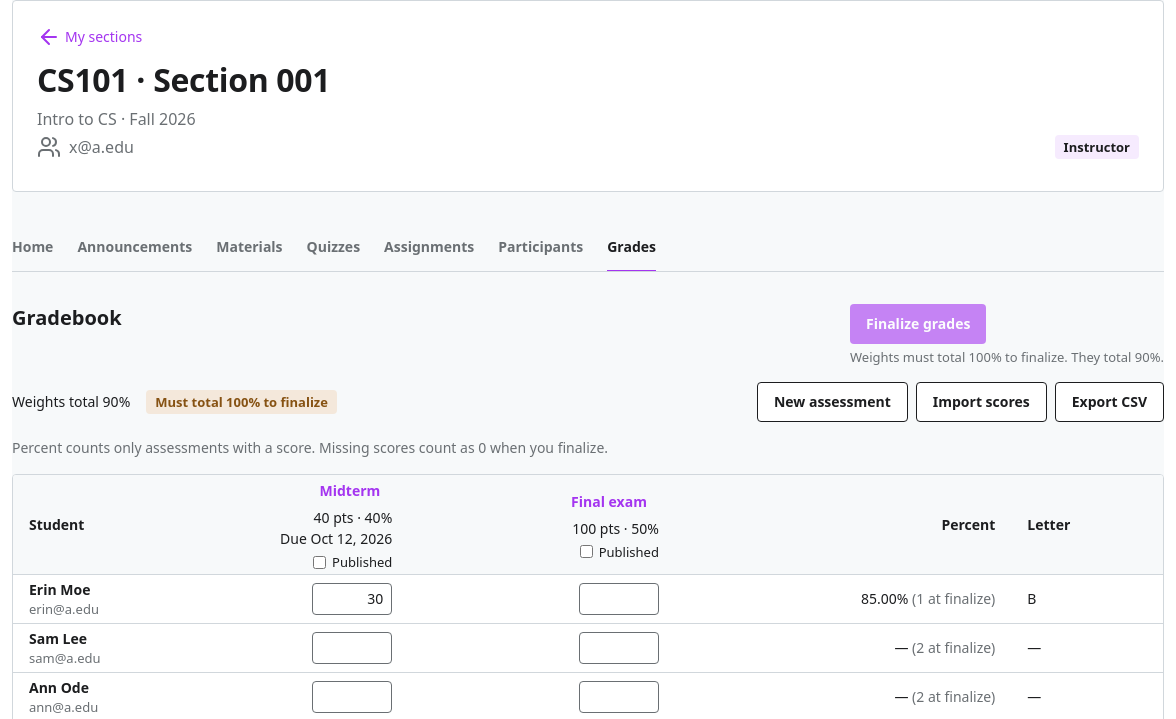
invalid text shows an inline error and sends nothing
The image size is (1176, 719).
Type "3a" into the field named "Score for Sam Lee, Midterm".
click(352, 648); type("3a")  # box x1=312 y1=632 x2=392 y2=664
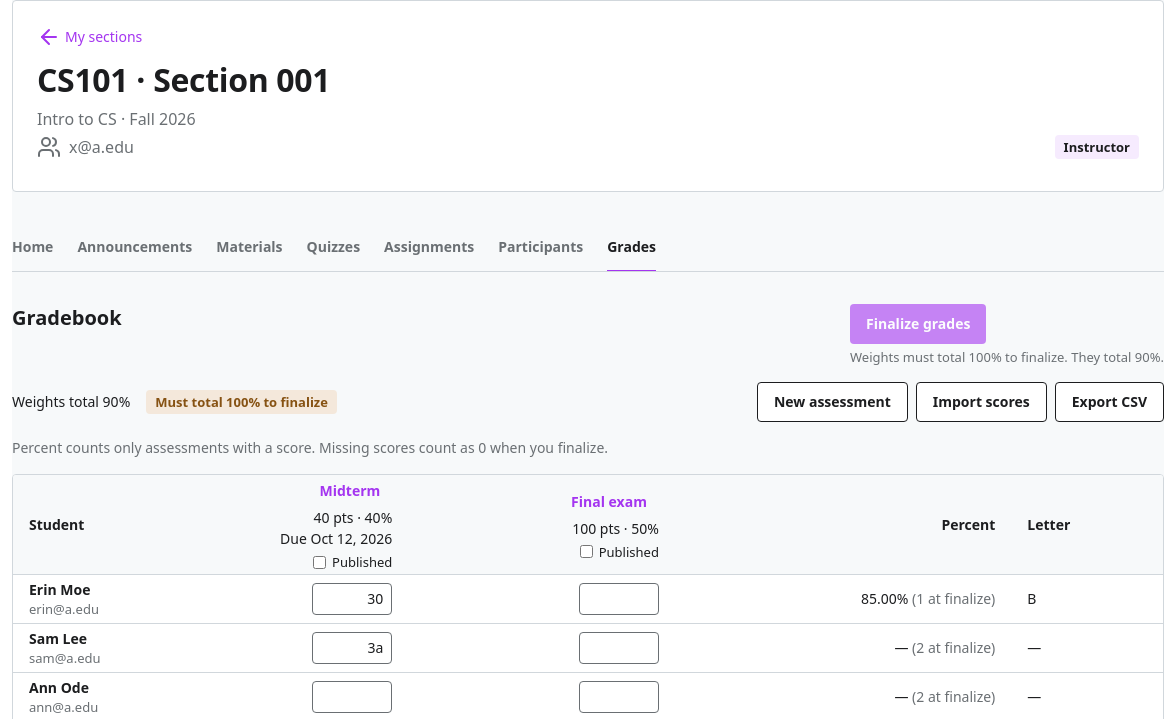
Leave the field named "Score for Sam Lee, Midterm", box x1=312 y1=632 x2=392 y2=664
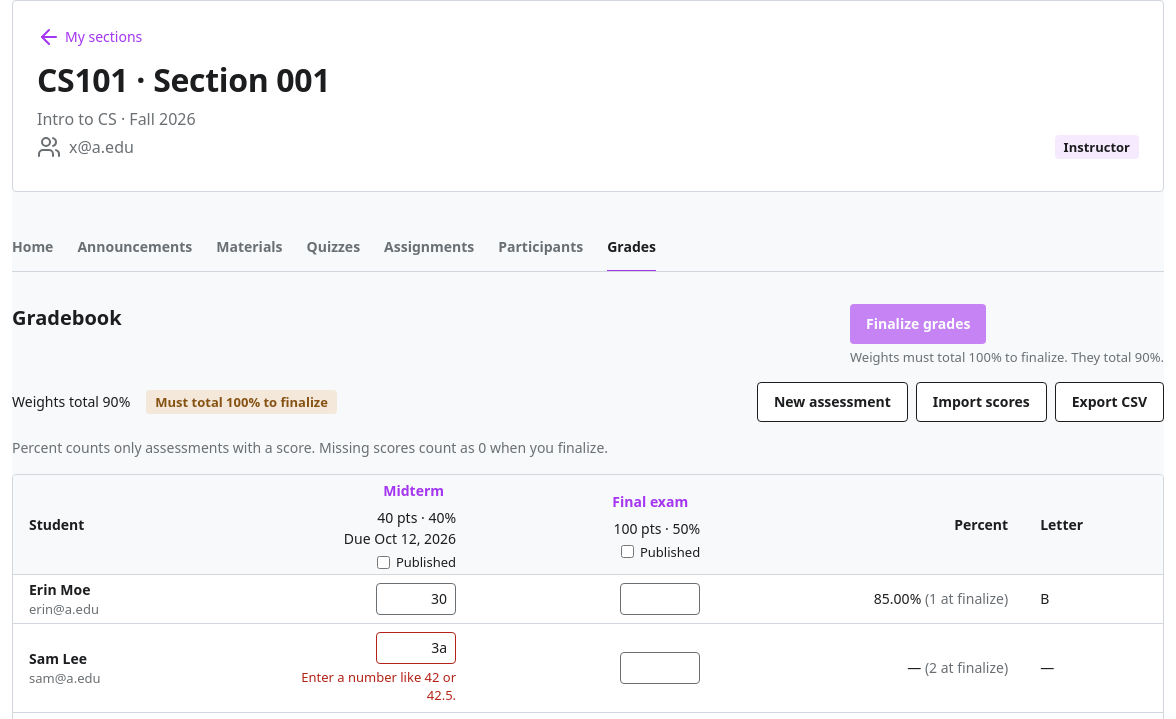
Now the text "Enter a number like 42 or 42.5." is shown, box x1=296 y1=668 x2=456 y2=704
